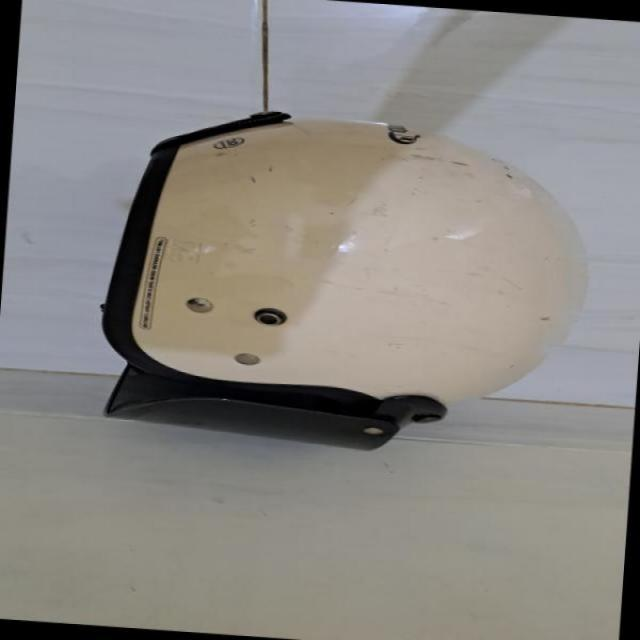Helmet: (85, 86, 589, 486)
